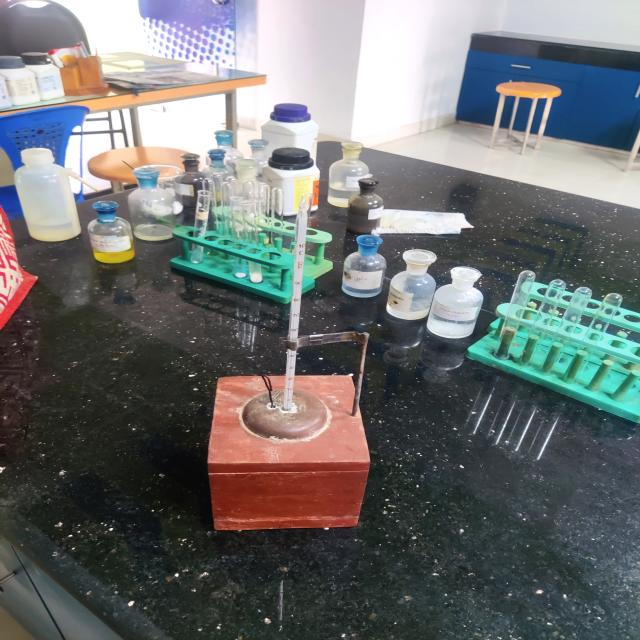Calorimeter: (172, 171, 394, 563)
